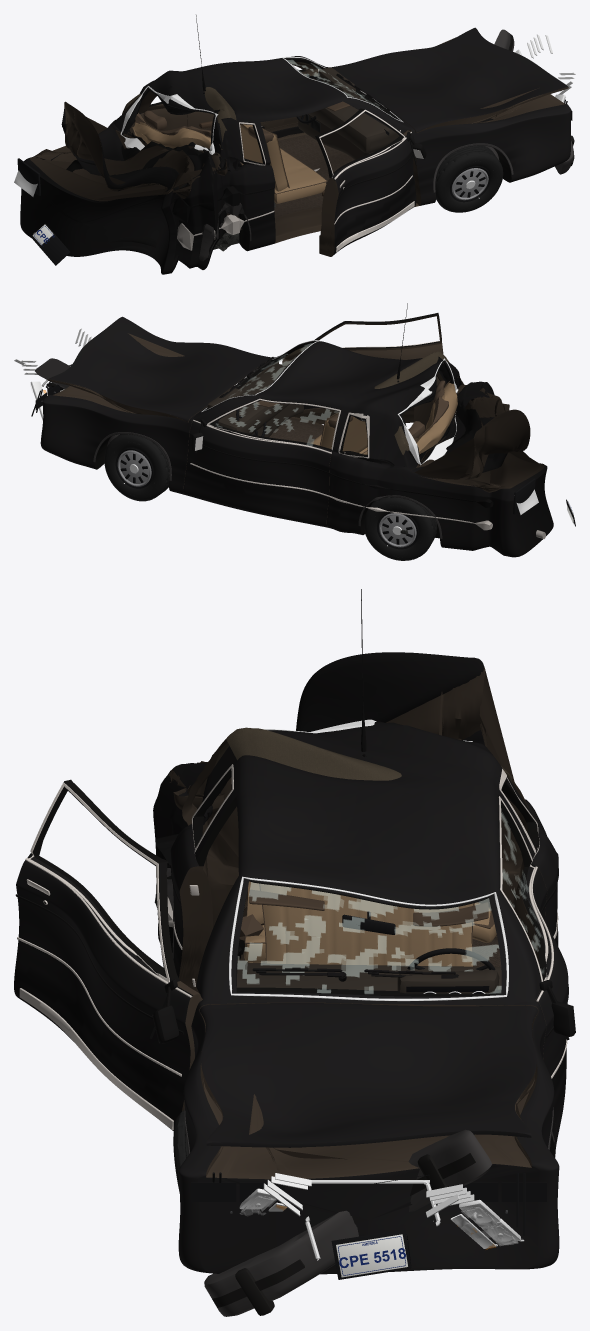
The model's file is coupe84_rear_corner_R_d3.glb.
The picture shows the model from 3 angles, top to bottom: view 1: azimuth 30°, elevation 25°; view 2: azimuth 150°, elevation 25°; view 3: azimuth 270°, elevation 25°; orthographic projection. The views are drawn at different scales.
Parts seen in each view (by area): view 1: Body, Hood, Interior, Door_FR, Trunk, Wheel_FR_mesh, Trim, Ends, Glass, Trim_FR, Door_FL, Bumper_F (+1 smaller); view 2: Body, Hood, Door_FL, Trunk, Interior, Wheel_RL_mesh, Wheel_FL_mesh, Door_FR, Trim, Glass, Ends, Trim_FL (+2 smaller); view 3: Body, Hood, Door_FR, Interior, Trunk, Ends, Bumper_F, Glass, Trim_FR, Door_FL, Trim, Trim_FL.
Part boxes in pixels (box(x1,y1,x2,y2)): Body: box(20, 56, 571, 274); Hood: box(330, 27, 568, 132); Interior: box(132, 67, 399, 203); Door_FR: box(315, 108, 416, 256); Trunk: box(61, 101, 222, 191); Wheel_FR_mesh: box(435, 145, 503, 212); Trim: box(172, 15, 513, 261); Ends: box(14, 34, 575, 265); Glass: box(120, 56, 403, 164); Trim_FR: box(319, 109, 426, 252); Door_FL: box(187, 63, 319, 138); Bumper_F: box(494, 29, 574, 174); Body: box(40, 341, 553, 557); Hood: box(47, 316, 271, 422); Door_FL: box(183, 398, 341, 527); Trunk: box(411, 381, 530, 479); Interior: box(207, 363, 457, 454); Wheel_RL_mesh: box(364, 497, 437, 560); Wheel_FL_mesh: box(104, 434, 169, 501); Door_FR: box(282, 313, 443, 424); Trim: box(93, 303, 493, 538); Glass: box(201, 340, 458, 465); Ends: box(14, 328, 575, 526); Trim_FL: box(190, 398, 340, 496); Body: box(153, 721, 559, 1274); Hood: box(199, 1003, 538, 1147); Door_FR: box(14, 779, 202, 1131); Interior: box(236, 881, 501, 993); Trunk: box(168, 652, 514, 793); Ends: box(191, 1172, 546, 1279); Bumper_F: box(204, 1129, 492, 1316); Glass: box(192, 719, 534, 1001); Trim_FR: box(15, 783, 195, 1130); Door_FL: box(498, 795, 568, 1140); Trim: box(154, 589, 558, 1154); Trim_FL: box(498, 796, 575, 1078).
Size of the model in its own units: 5.47 by 2.17 by 2.53.
Materials: 33 (5 with a texture image).
